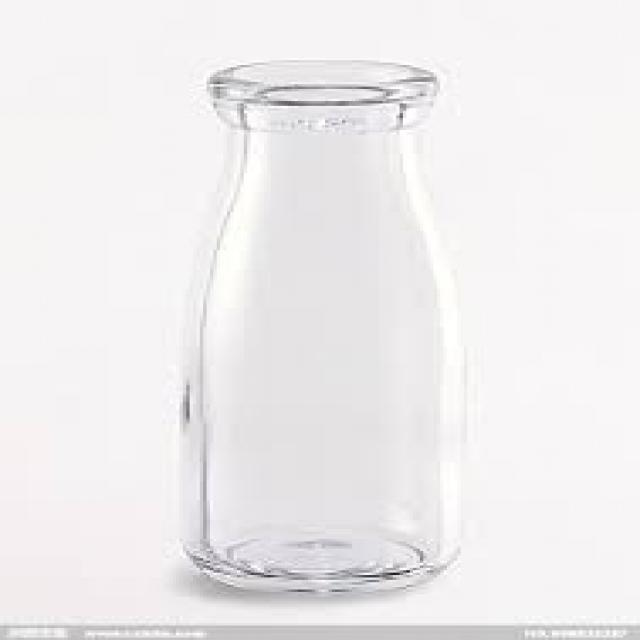Glass-Non-Biodegradable but Recyclable-: (185, 73, 463, 589)
